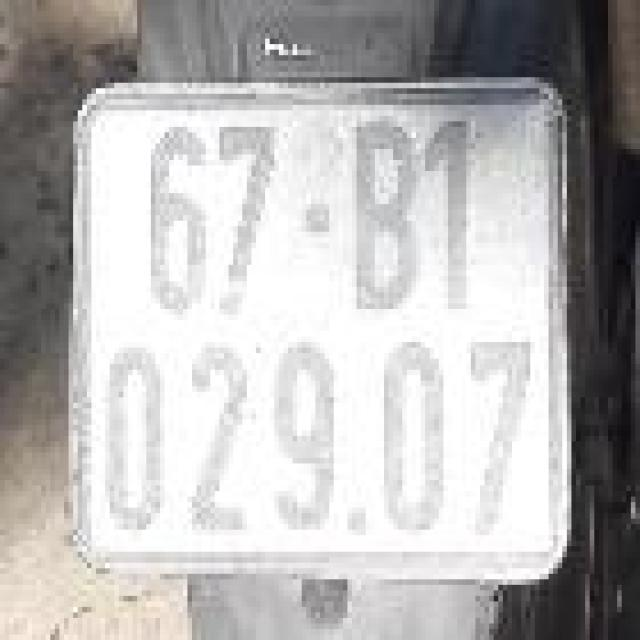0: (372, 328, 455, 544), (98, 334, 172, 543)
1: (421, 105, 480, 325)
2: (180, 336, 253, 552)
6: (137, 119, 215, 322)
7: (455, 334, 537, 549), (212, 121, 286, 320)
9: (260, 331, 348, 541)
B: (352, 110, 425, 320)
